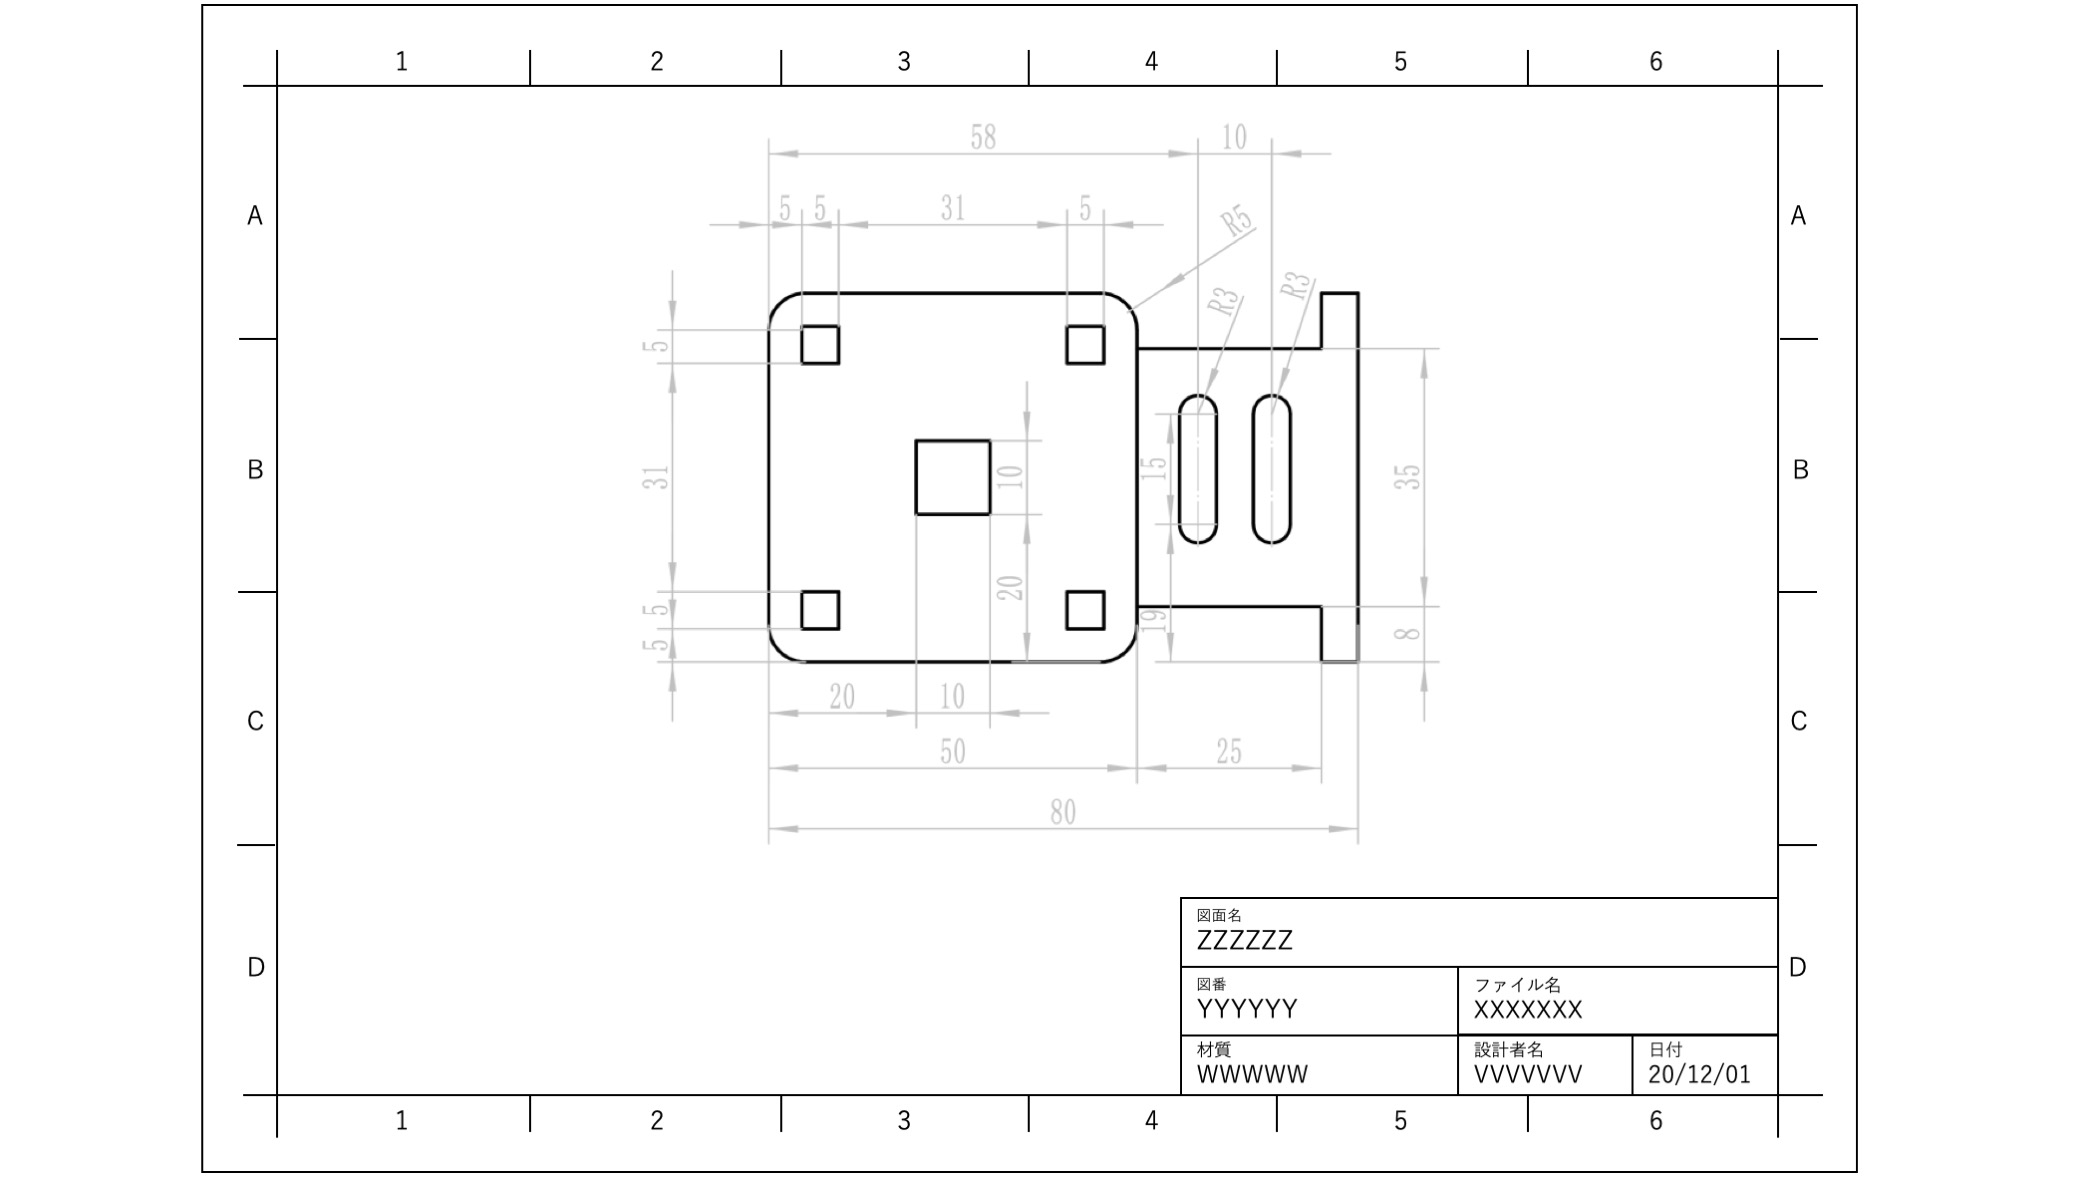rectangle: (906, 431, 1002, 526), (790, 311, 844, 375), (1053, 581, 1116, 634), (1057, 313, 1116, 369), (789, 581, 844, 639)
round_rectangle: (1248, 382, 1300, 552), (1174, 384, 1222, 549)
